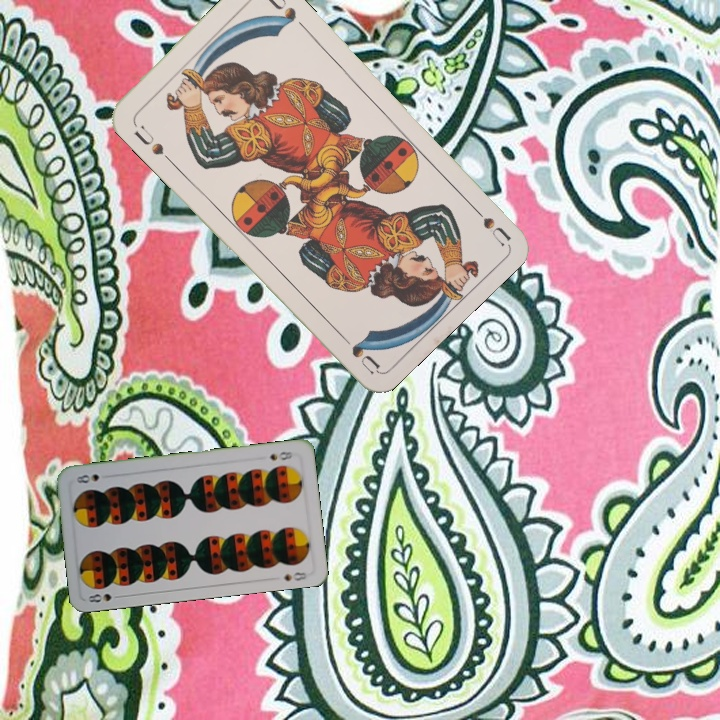S8: (84, 589, 125, 605), (265, 447, 295, 463)
SU: (464, 197, 512, 248), (130, 121, 174, 165)
